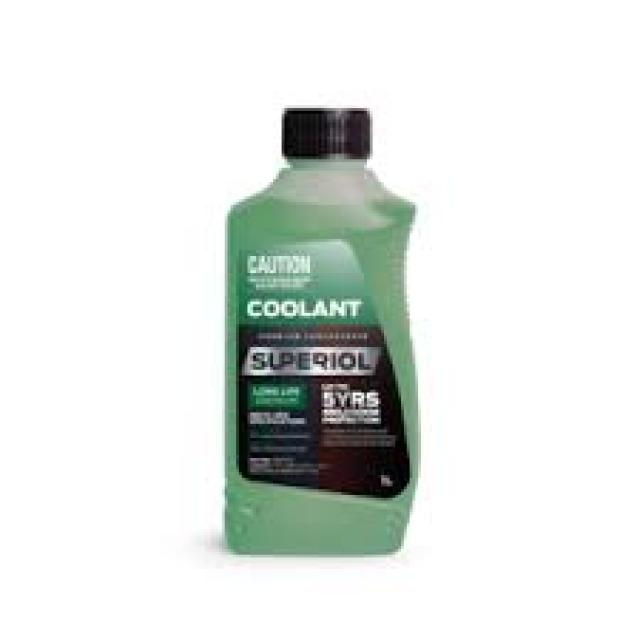coolant: (219, 100, 421, 559)
